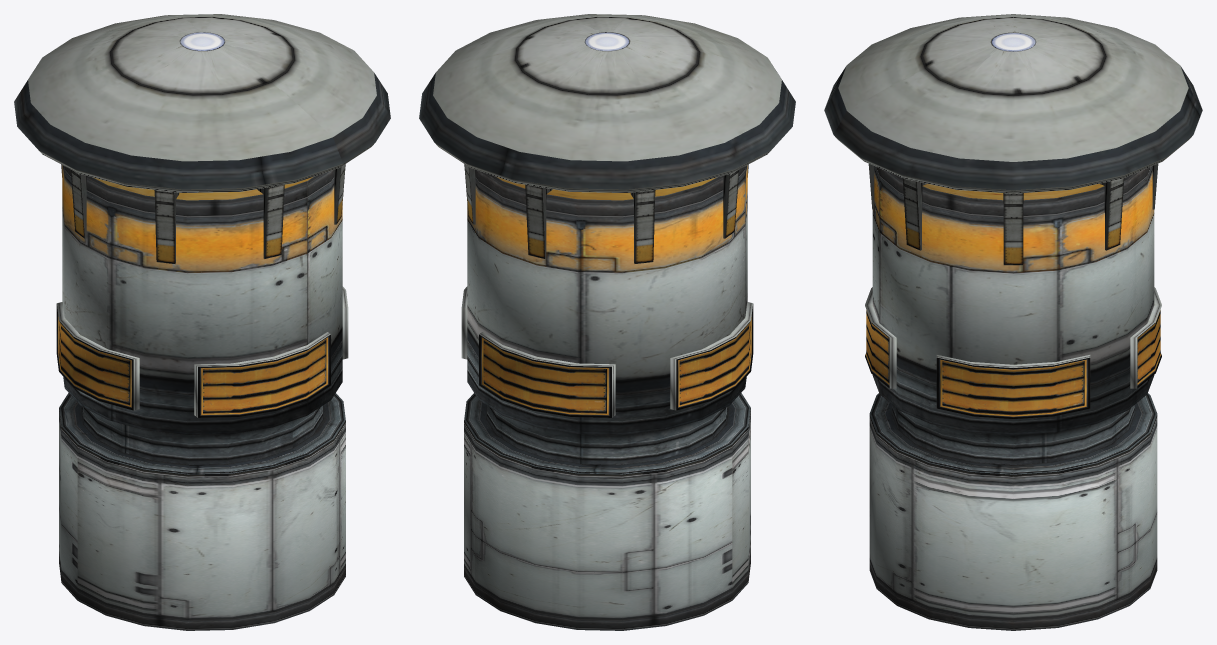
Rendered from torre1RETEX.fbx.
3 renders of one model, left to right at view 1: azimuth 30°, elevation 25°; view 2: azimuth 150°, elevation 25°; view 3: azimuth 270°, elevation 25°, orthographic.
Parts seen in each view (by area): view 1: Cylinder; view 2: Cylinder; view 3: Cylinder.
Boxes of the visible parts, bbox=[...] form: Cylinder: bbox=[14, 14, 390, 630]; Cylinder: bbox=[419, 14, 795, 630]; Cylinder: bbox=[824, 14, 1202, 630].
Bounding box in the file's own units: 6.82 × 10.5 × 6.82.
